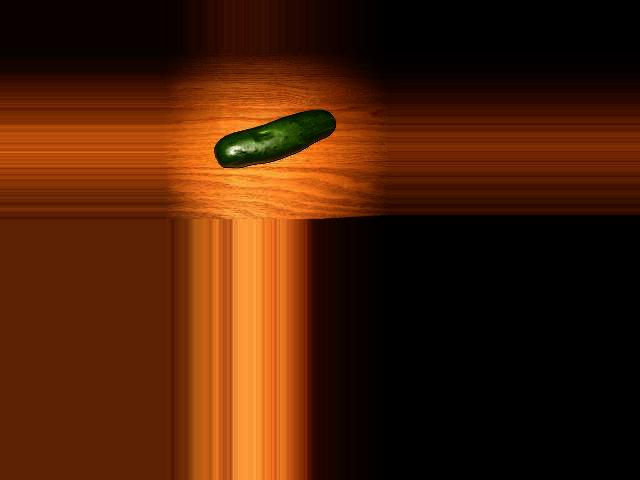cucumber: (216, 110, 336, 168)
